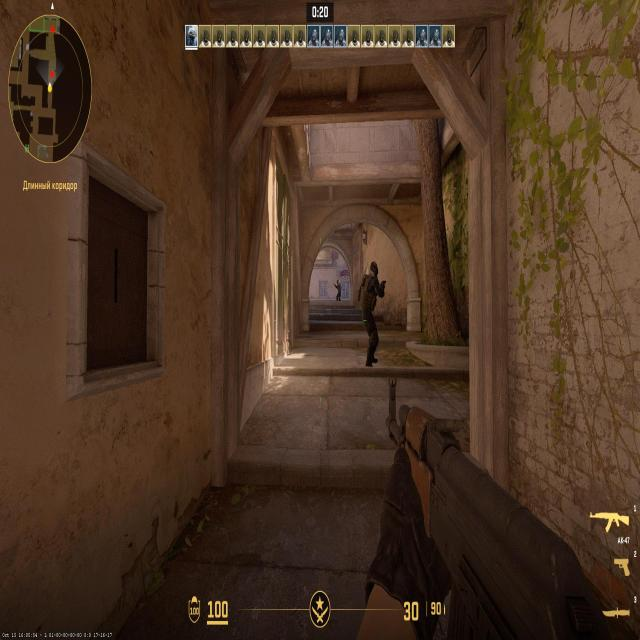CT: (366, 265, 378, 368), (336, 280, 342, 300), (336, 280, 338, 286)
CT_heat: (370, 265, 375, 276), (337, 276, 340, 285)
